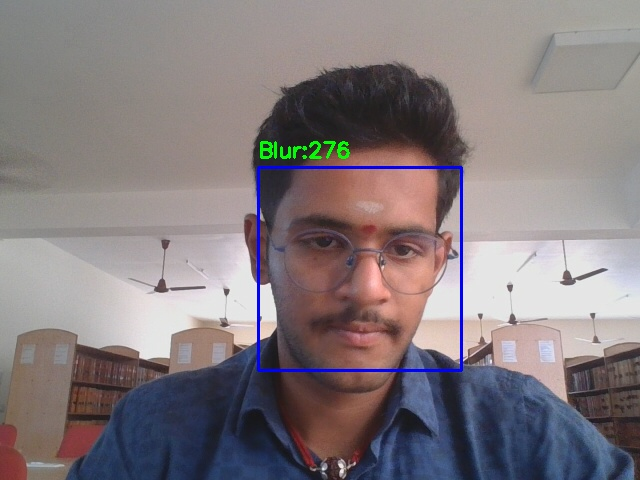real: (258, 167, 461, 370)
